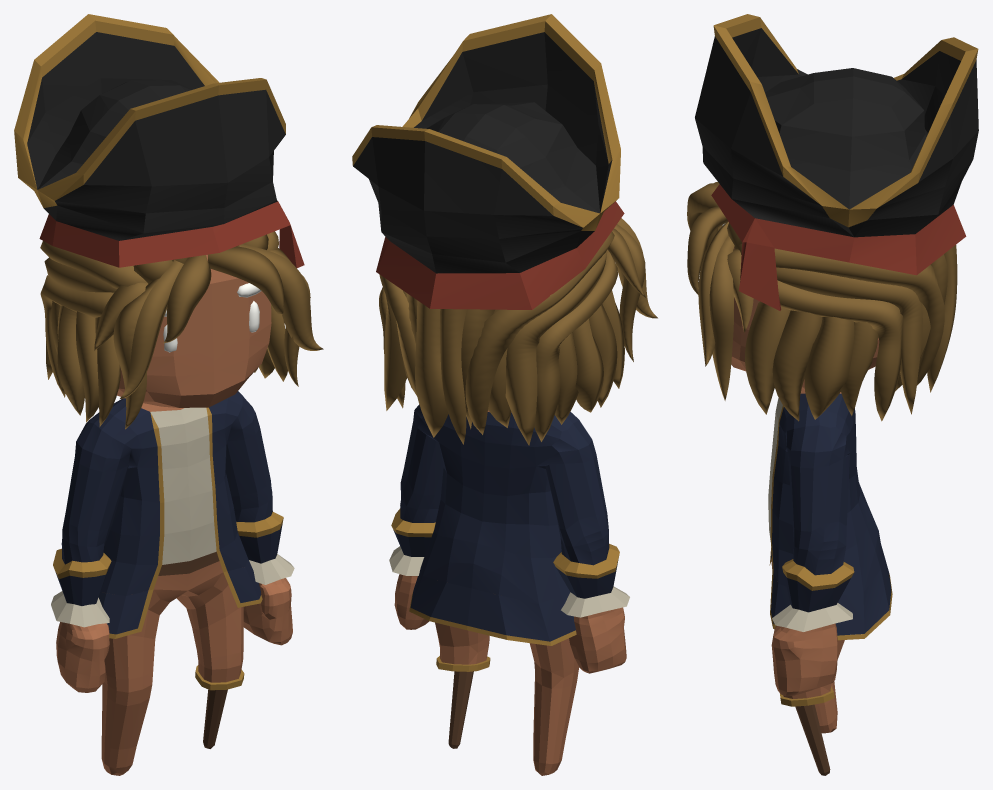
The model's file is debout-pirate-female.glb.
3 renders of one model, left to right at view 1: azimuth 30°, elevation 25°; view 2: azimuth 150°, elevation 25°; view 3: azimuth 270°, elevation 25°, orthographic. The views are drawn at different scales.
Parts seen in each view (by area): view 1: Cube004_6, Cube004, Cube004_2, Cube004_8, Cube004_3, Cube004_1, Cube004_7, Cube004_4, Cube004_5; view 2: Cube004_6, Cube004_2, Cube004_8, Cube004_3, Cube004, Cube004_7, Cube004_1, Cube004_4; view 3: Cube004_6, Cube004_8, Cube004_2, Cube004_3, Cube004_7, Cube004, Cube004_1, Cube004_4.
Boxes of the visible parts, x1,y1,x2,y2 form: Cube004_6: (27, 32, 285, 240); Cube004: (56, 254, 292, 775); Cube004_2: (55, 391, 282, 634); Cube004_8: (40, 231, 323, 429); Cube004_3: (14, 14, 285, 690); Cube004_1: (51, 407, 294, 627); Cube004_7: (39, 201, 304, 268); Cube004_4: (158, 551, 227, 748); Cube004_5: (163, 283, 261, 352); Cube004_6: (353, 32, 612, 273); Cube004_2: (393, 404, 618, 641); Cube004_8: (379, 218, 657, 445); Cube004_3: (352, 14, 620, 671); Cube004: (394, 410, 626, 775); Cube004_7: (376, 201, 624, 309); Cube004_1: (389, 546, 629, 617); Cube004_4: (448, 671, 473, 748); Cube004_6: (695, 28, 978, 237); Cube004_8: (687, 182, 957, 421); Cube004_2: (770, 393, 891, 635); Cube004_3: (713, 14, 978, 706); Cube004_7: (711, 184, 966, 310); Cube004: (731, 247, 879, 733); Cube004_1: (768, 397, 852, 631); Cube004_4: (770, 527, 830, 775).
Size of the model in its own units: 0.5766 by 1.68 by 0.608.
